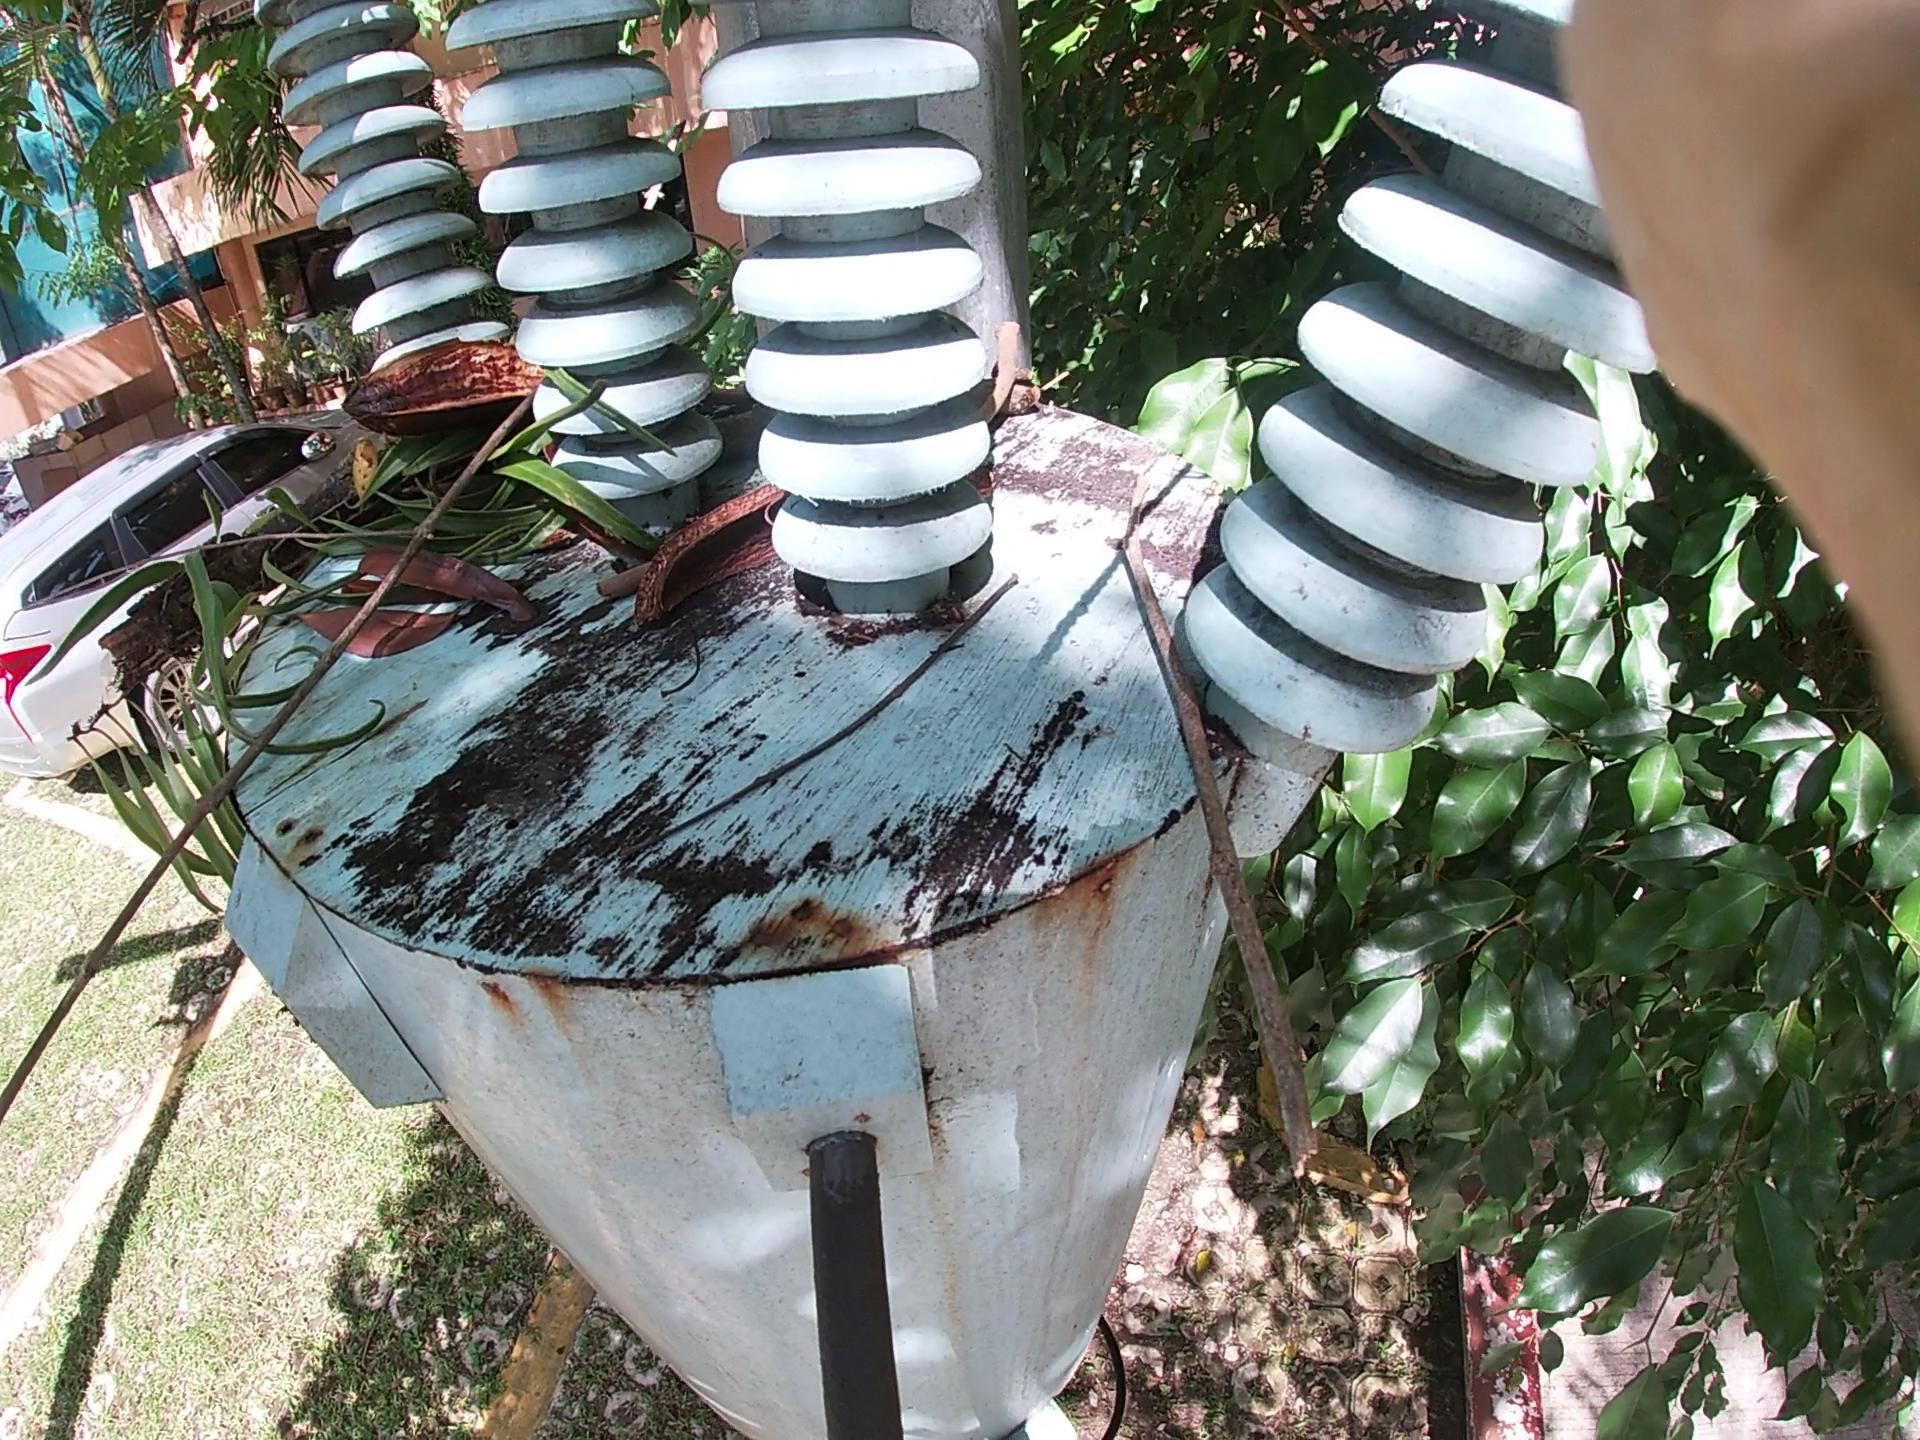branch with leaves: (163, 269, 1028, 820)
leaf: (314, 520, 552, 756)
mahogany fruit: (319, 315, 584, 483), (561, 504, 812, 635)
tree branch: (33, 393, 514, 1071), (593, 327, 1117, 631), (630, 569, 1064, 874), (1105, 537, 1288, 1172)
